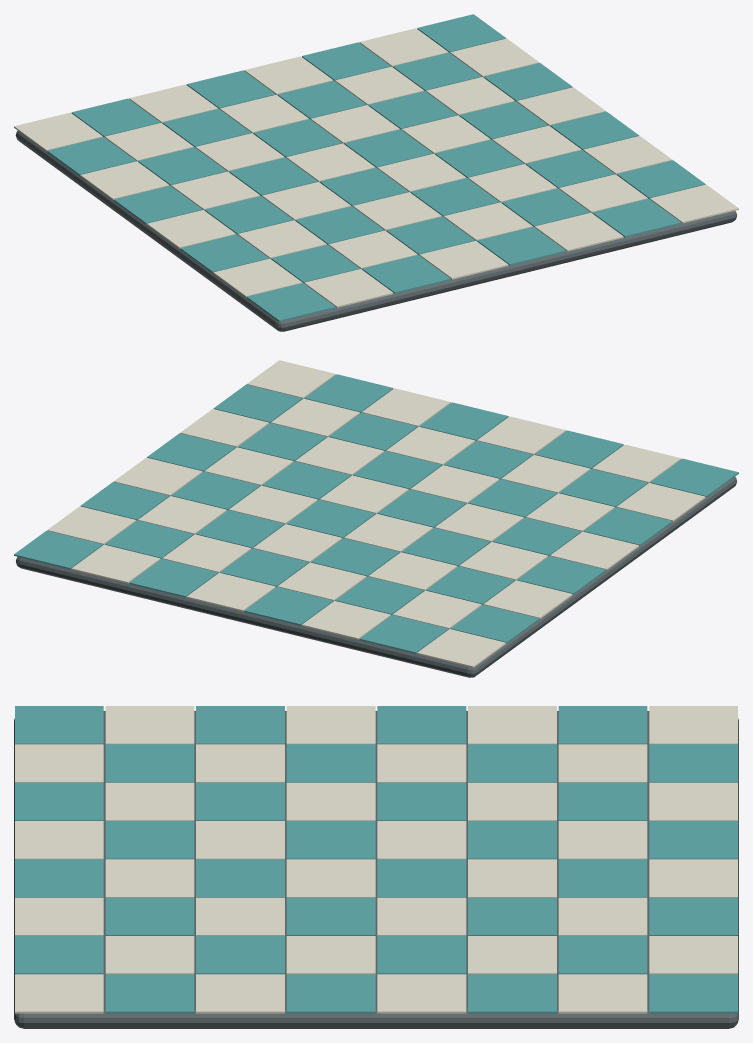
The model's file is ground_cloth_tile.fbx.
3 renders of one model, top to bottom at view 1: azimuth 30°, elevation 25°; view 2: azimuth 150°, elevation 25°; view 3: azimuth 270°, elevation 25°, orthographic. The views are drawn at different scales.
Parts seen in each view (by area): view 1: ground_cloth_tile, cloth_checker_00_00, cloth_checker_05_00, cloth_checker_03_00, cloth_checker_06_00, cloth_checker_07_00, cloth_checker_02_00, cloth_checker_04_00, cloth_checker_01_00, cloth_checker_00_05, cloth_checker_00_02, cloth_checker_00_03 (+53 smaller); view 2: ground_cloth_tile, cloth_checker_00_07, cloth_checker_05_07, cloth_checker_03_07, cloth_checker_06_07, cloth_checker_07_07, cloth_checker_02_07, cloth_checker_04_07, cloth_checker_01_07, cloth_checker_00_02, cloth_checker_00_04, cloth_checker_00_05 (+53 smaller); view 3: ground_cloth_tile, cloth_checker_07_01, cloth_checker_07_03, cloth_checker_07_04, cloth_checker_07_06, cloth_checker_07_00, cloth_checker_07_02, cloth_checker_07_05, cloth_checker_07_07, cloth_checker_01_01, cloth_checker_01_03, cloth_checker_01_04 (+53 smaller).
Part boxes in pixels (left/top/right/bottom): ground_cloth_tile: left=15, top=131, right=736, bottom=331; cloth_checker_00_00: left=246, top=283, right=335, bottom=321; cloth_checker_05_00: left=534, top=212, right=623, bottom=251; cloth_checker_03_00: left=419, top=241, right=508, bottom=279; cloth_checker_06_00: left=592, top=198, right=681, bottom=237; cloth_checker_07_00: left=650, top=184, right=738, bottom=223; cloth_checker_02_00: left=362, top=255, right=450, bottom=293; cloth_checker_04_00: left=477, top=226, right=566, bottom=265; cloth_checker_01_00: left=304, top=269, right=393, bottom=307; cloth_checker_00_05: left=80, top=161, right=169, bottom=200; cloth_checker_00_02: left=180, top=234, right=269, bottom=272; cloth_checker_00_03: left=147, top=210, right=235, bottom=248; ground_cloth_tile: left=16, top=477, right=737, bottom=677; cloth_checker_00_07: left=417, top=629, right=506, bottom=667; cloth_checker_05_07: left=129, top=558, right=218, bottom=597; cloth_checker_03_07: left=244, top=587, right=333, bottom=625; cloth_checker_06_07: left=71, top=544, right=160, bottom=583; cloth_checker_07_07: left=14, top=530, right=102, bottom=569; cloth_checker_02_07: left=302, top=601, right=390, bottom=639; cloth_checker_04_07: left=186, top=572, right=275, bottom=611; cloth_checker_01_07: left=359, top=615, right=448, bottom=653; cloth_checker_00_02: left=583, top=507, right=672, bottom=546; cloth_checker_00_04: left=517, top=556, right=605, bottom=594; cloth_checker_00_05: left=483, top=580, right=572, bottom=618; ground_cloth_tile: left=14, top=711, right=738, bottom=1028; cloth_checker_07_01: left=105, top=974, right=194, bottom=1013; cloth_checker_07_03: left=286, top=974, right=375, bottom=1013; cloth_checker_07_04: left=377, top=974, right=466, bottom=1013; cloth_checker_07_06: left=558, top=974, right=647, bottom=1013; cloth_checker_07_00: left=15, top=974, right=103, bottom=1013; cloth_checker_07_02: left=196, top=974, right=284, bottom=1013; cloth_checker_07_05: left=468, top=974, right=556, bottom=1013; cloth_checker_07_07: left=649, top=974, right=737, bottom=1013; cloth_checker_01_01: left=105, top=744, right=194, bottom=782; cloth_checker_01_03: left=286, top=744, right=375, bottom=782; cloth_checker_01_04: left=377, top=744, right=466, bottom=782.
Size of the model in its own units: 4 by 0.122 by 4.
